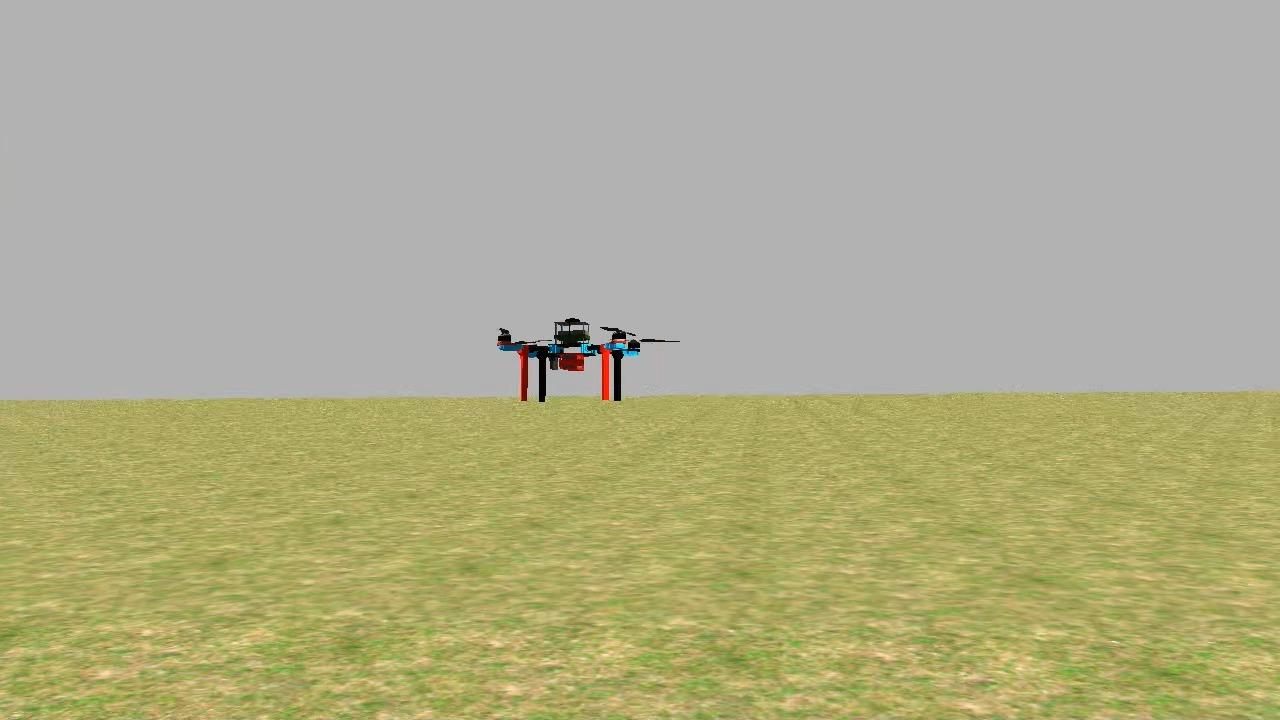UAV: (492, 301, 652, 419)
